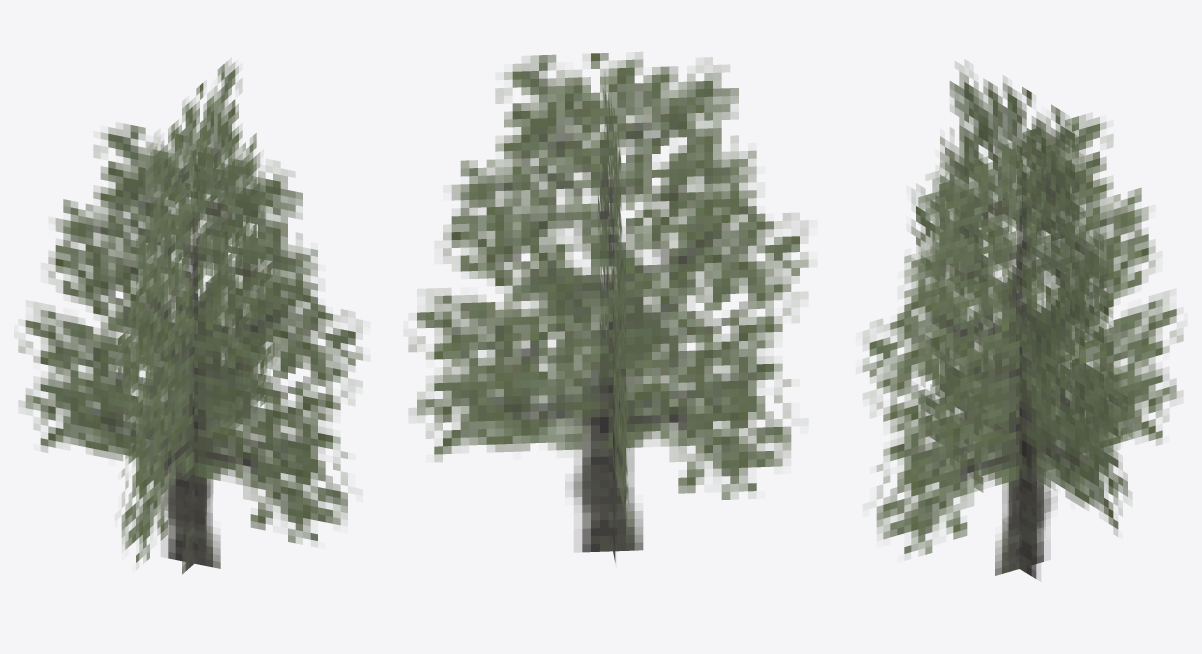
File: tree-large.004_lev3.glb
3 renders of one model, left to right at view 1: azimuth 30°, elevation 25°; view 2: azimuth 150°, elevation 25°; view 3: azimuth 270°, elevation 25°, orthographic. The views are drawn at different scales.
Parts seen in each view (by area): view 1: tree-large.004_lev3; view 2: tree-large.004_lev3; view 3: tree-large.004_lev3.
Part boxes in pixels (x1,y1,x2,y2): tree-large.004_lev3: (18,58,362,574); tree-large.004_lev3: (408,52,808,562); tree-large.004_lev3: (862,60,1183,581).
Bounding box in the file's own units: 11.07 × 17.59 × 11.07.
1 material, 1 textured.
